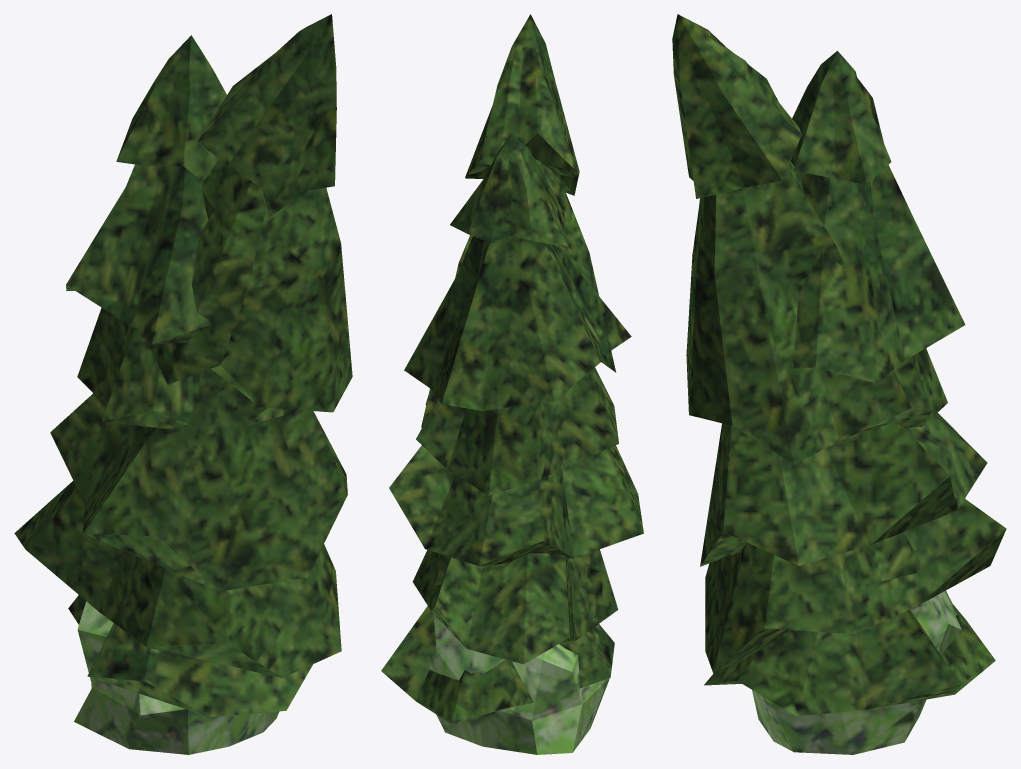
The model's file is TreesAndBushes.fbx.
The picture shows the model from 3 angles, left to right: view 1: azimuth 30°, elevation 25°; view 2: azimuth 150°, elevation 25°; view 3: azimuth 270°, elevation 25°; orthographic projection. The views are drawn at different scales.
Visible parts, largest first — view 1: Spruce_01, Pine_01, Spruce_02, Bush_02; view 2: Pine_01, Spruce_01, Bush_02, Spruce_02; view 3: Spruce_01, Pine_01, Spruce_02, Bush_02.
Part boxes in pixels (x1,y1,x2,y2): Spruce_01: [14, 14, 352, 677]; Pine_01: [66, 35, 285, 428]; Spruce_02: [68, 595, 312, 717]; Bush_02: [74, 601, 279, 754]; Pine_01: [404, 134, 631, 495]; Spruce_01: [389, 14, 643, 664]; Bush_02: [429, 614, 609, 754]; Spruce_02: [381, 555, 614, 723]; Spruce_01: [672, 14, 1006, 673]; Pine_01: [791, 51, 965, 430]; Spruce_02: [704, 532, 995, 715]; Bush_02: [752, 590, 961, 754].
Bounding box in the file's own units: 2.84 × 7.69 × 3.13.
